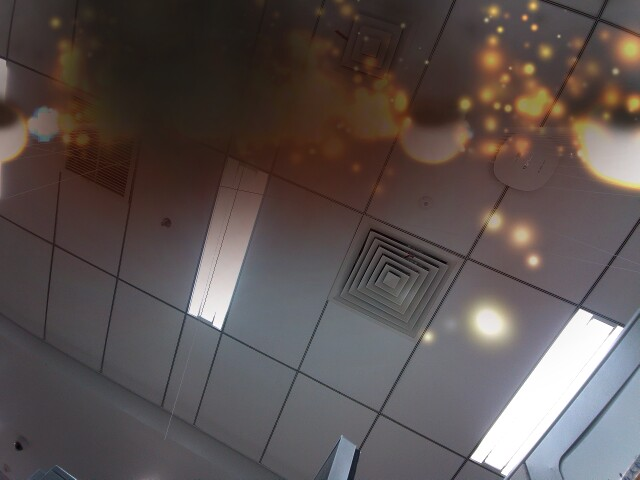fire: (575, 89, 640, 195), (398, 101, 467, 166), (0, 101, 32, 166)
